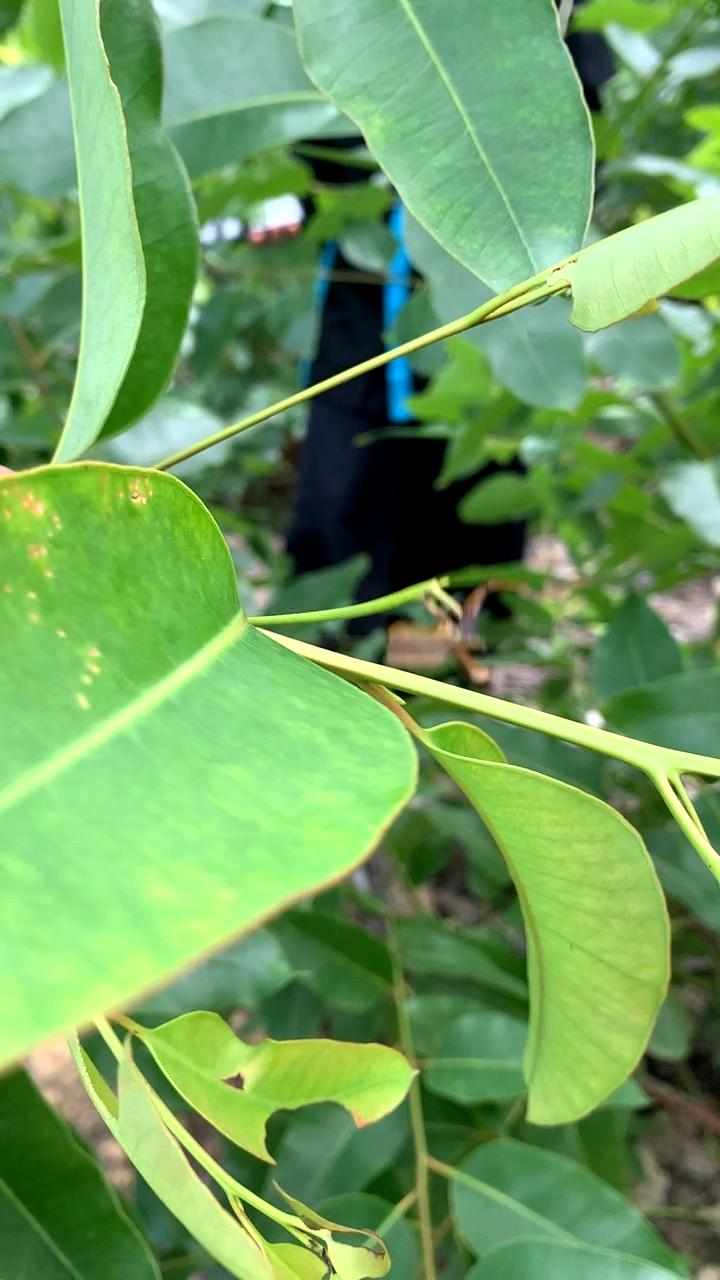Helopeltis-Withered Sprout: (379, 536, 533, 699)
